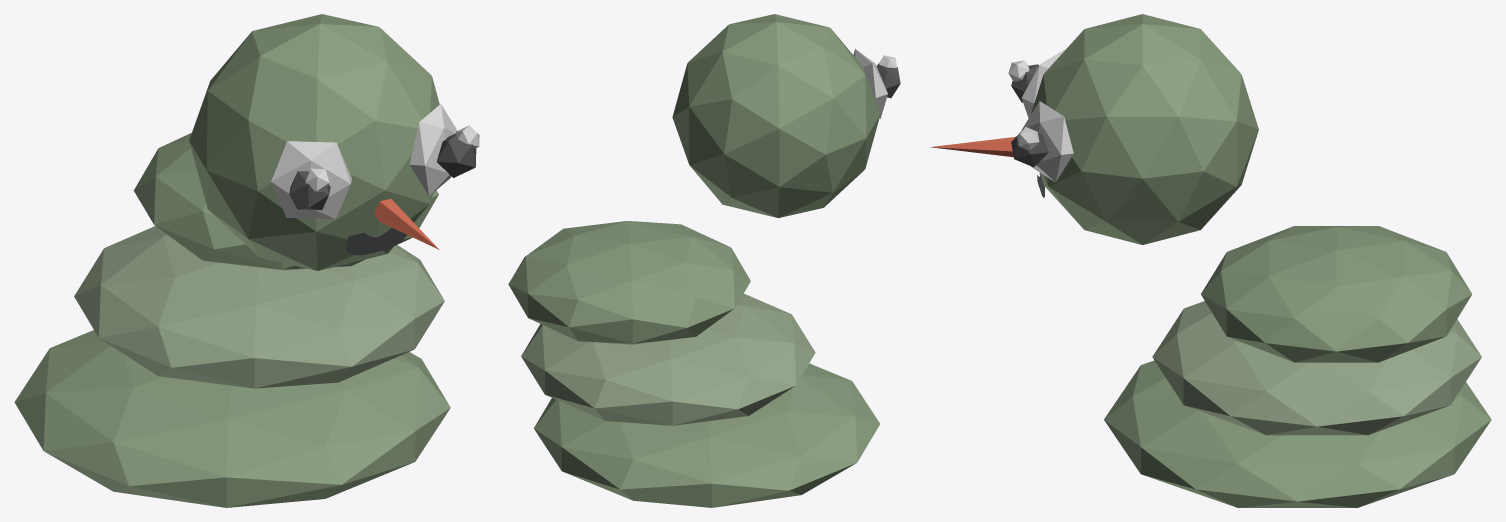
The model's file is tropidonophis-spilogaster.glb.
3 renders of one model, left to right at view 1: azimuth 30°, elevation 25°; view 2: azimuth 150°, elevation 25°; view 3: azimuth 270°, elevation 25°, orthographic. The views are drawn at different scales.
Visible parts, largest first — view 1: coil0, head, coil1, coil2, face-eye-r, face-eye-l, face-pupil-l, tongue, face-smile, face-pupil-r; view 2: head, coil0, coil1, coil2, face-eye-r, face-pupil-r; view 3: head, coil2, coil0, coil1, face-eye-l, tongue, face-eye-r, face-pupil-l.
Boxes of the visible parts, x1=… form: coil0: x1=14, y1=330, x2=450, y2=507; head: x1=189, y1=14, x2=439, y2=270; coil1: x1=74, y1=226, x2=444, y2=388; coil2: x1=133, y1=133, x2=438, y2=270; face-eye-r: x1=271, y1=141, x2=351, y2=219; face-eye-l: x1=409, y1=104, x2=457, y2=196; face-pupil-l: x1=436, y1=133, x2=476, y2=177; tongue: x1=374, y1=198, x2=439, y2=249; face-smile: x1=346, y1=227, x2=407, y2=255; face-pupil-r: x1=289, y1=171, x2=330, y2=210; head: x1=672, y1=14, x2=880, y2=218; coil0: x1=534, y1=363, x2=879, y2=507; coil1: x1=521, y1=293, x2=815, y2=425; coil2: x1=508, y1=221, x2=750, y2=344; face-eye-r: x1=853, y1=49, x2=887, y2=118; face-pupil-r: x1=876, y1=63, x2=900, y2=98; head: x1=1031, y1=14, x2=1258, y2=244; coil2: x1=1201, y1=226, x2=1472, y2=362; coil0: x1=1104, y1=360, x2=1491, y2=507; coil1: x1=1152, y1=301, x2=1481, y2=435; face-eye-l: x1=1021, y1=101, x2=1073, y2=182; tongue: x1=929, y1=137, x2=1015, y2=157; face-eye-r: x1=1021, y1=50, x2=1064, y2=118; face-pupil-l: x1=1011, y1=126, x2=1048, y2=167.
Size of the model in its own units: 0.42 by 0.5 by 0.58.
